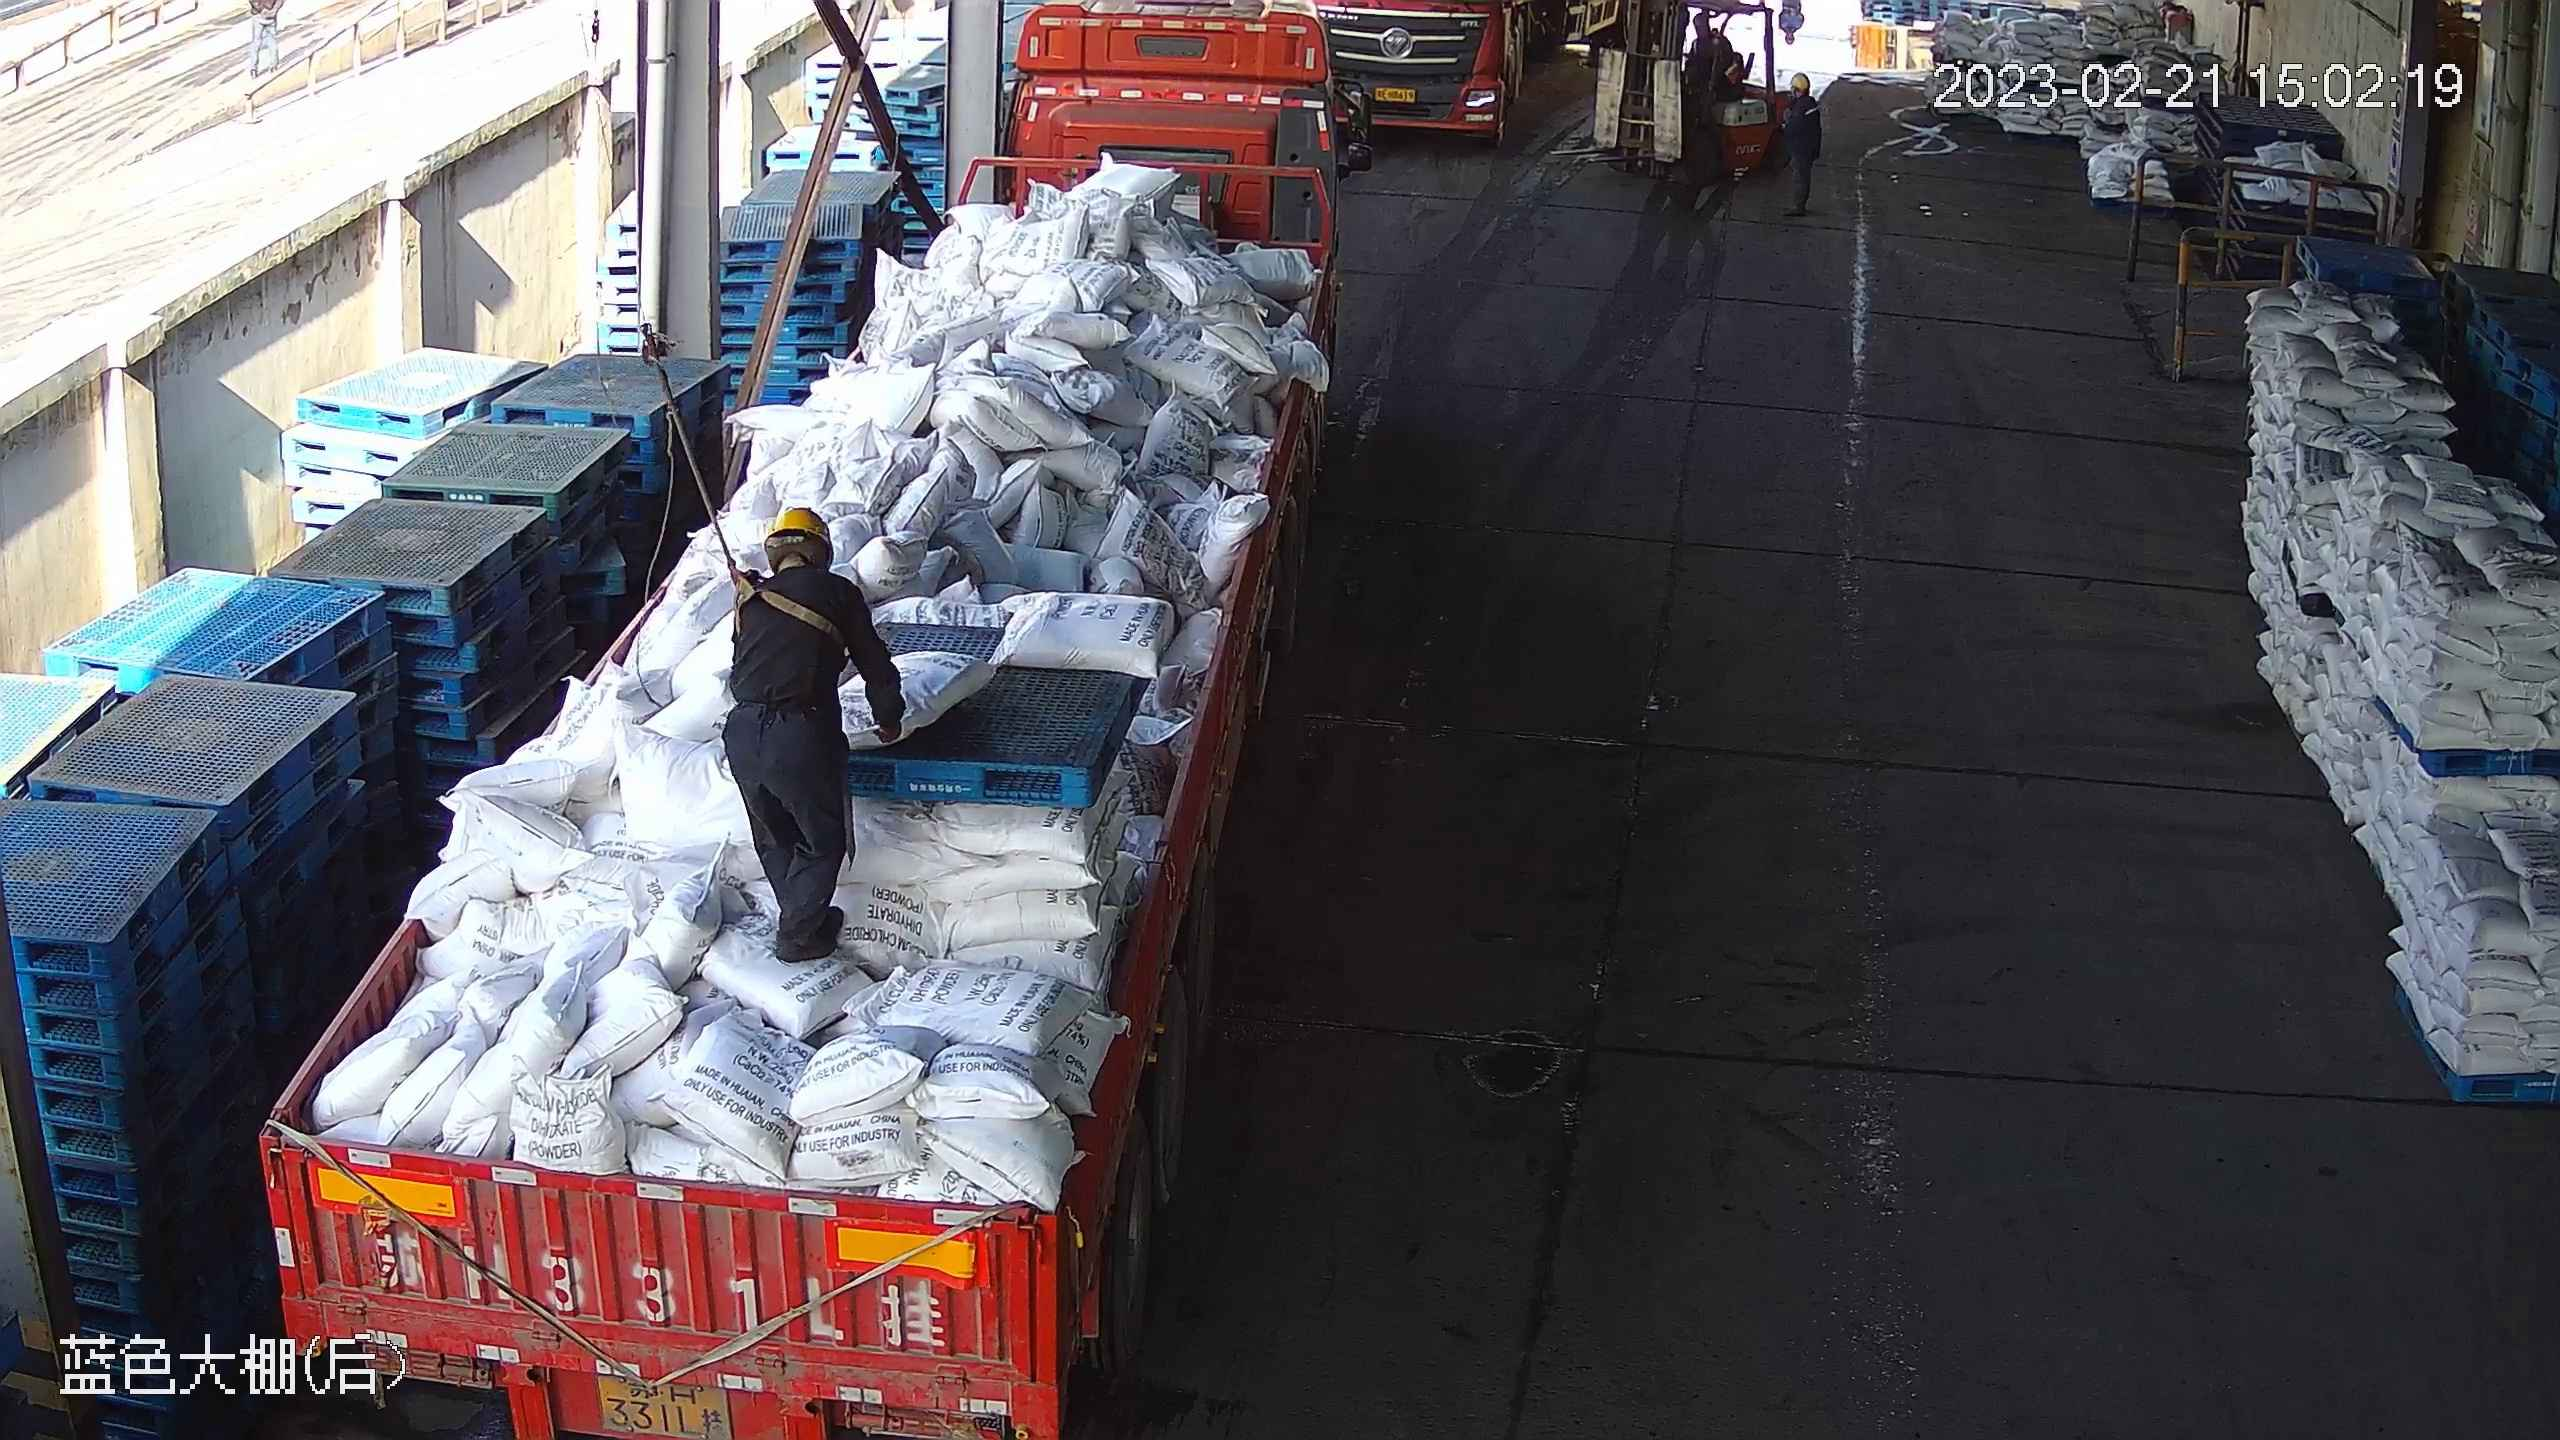belt: (725, 558, 824, 636)
head: (739, 508, 856, 623)
helmet: (763, 506, 834, 564)
people: (721, 504, 904, 958)
truck: (242, 8, 1370, 1440), (1320, 1, 1573, 140)
